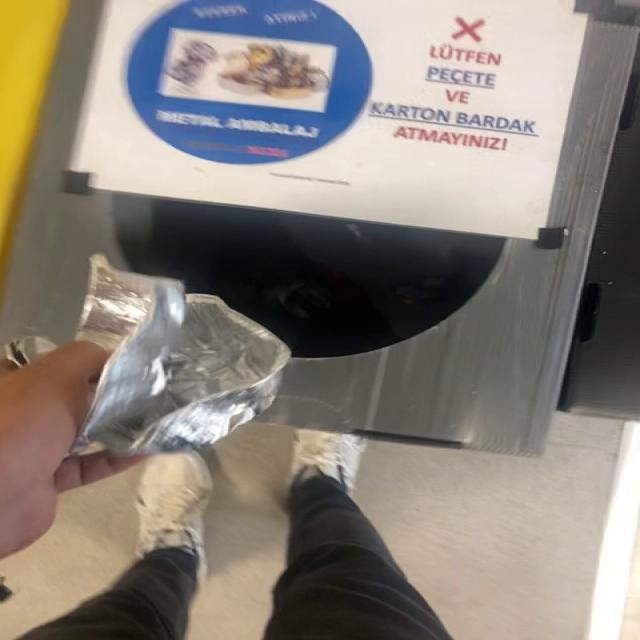bin: (3, 0, 639, 456)
metal: (69, 255, 291, 456)
